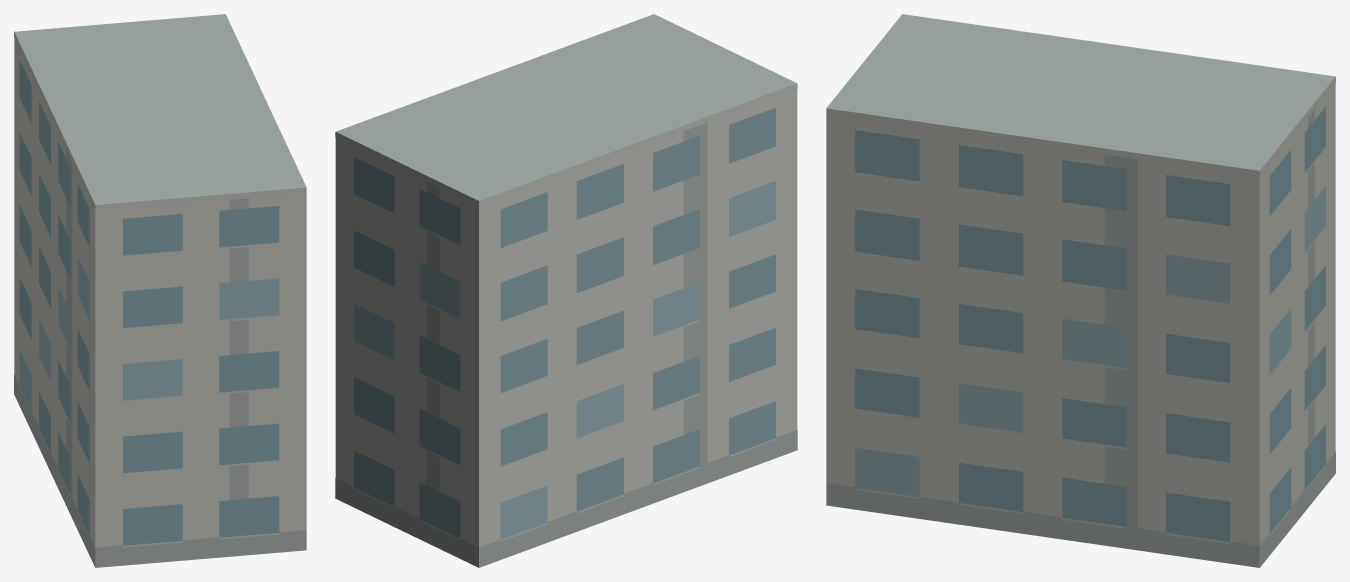
File: residential-2db3b470-a076-4da0-829d-001492285cb1.glb
3 renders of one model, left to right at view 1: azimuth 30°, elevation 25°; view 2: azimuth 150°, elevation 25°; view 3: azimuth 270°, elevation 25°, orthographic. The views are drawn at different scales.
Visible parts, largest first — view 1: residential-2db3b470-a076-4da0-829d-001492285cb1.tmp; view 2: residential-2db3b470-a076-4da0-829d-001492285cb1.tmp; view 3: residential-2db3b470-a076-4da0-829d-001492285cb1.tmp.
Boxes of the visible parts, <box> form: residential-2db3b470-a076-4da0-829d-001492285cb1.tmp: <box>14,14,306,567</box>; residential-2db3b470-a076-4da0-829d-001492285cb1.tmp: <box>335,14,797,567</box>; residential-2db3b470-a076-4da0-829d-001492285cb1.tmp: <box>826,14,1335,567</box>.
Bounding box in the file's own units: 12.92 × 15.25 × 17.74.
